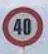Gioi han toc do: (2, 7, 44, 47)
